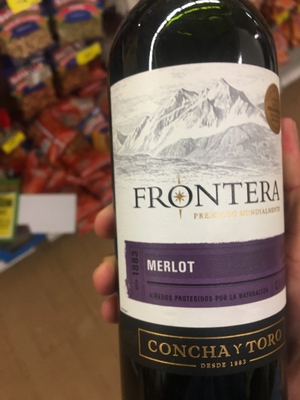frontera merlot: (96, 2, 294, 389)
